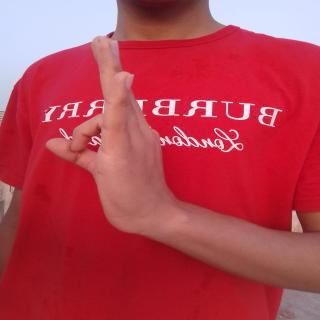Space: (42, 34, 190, 238)
